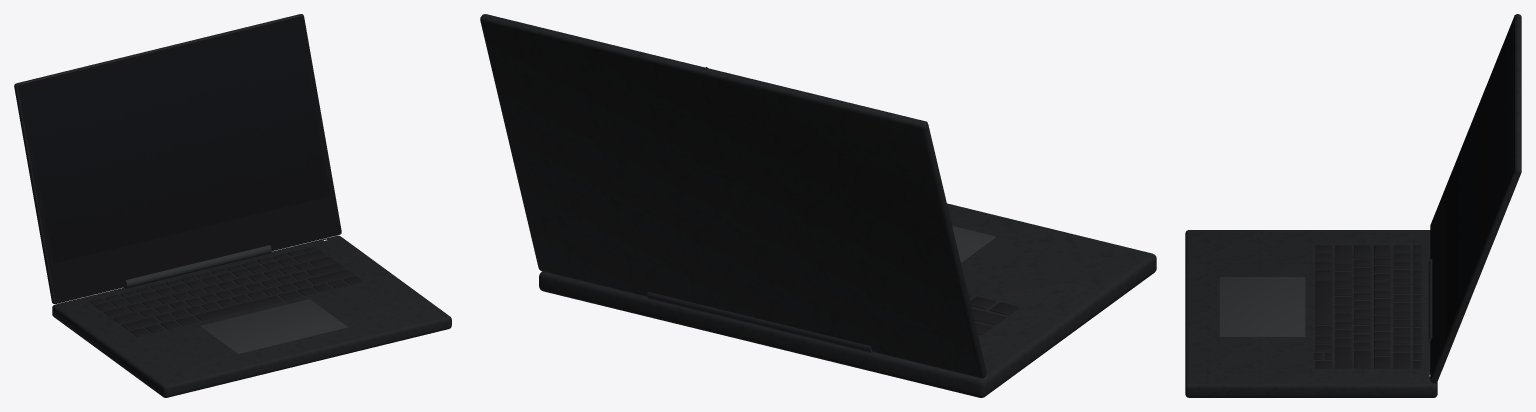
The model's file is crew-laptop.glb.
The picture shows the model from 3 angles, left to right: view 1: azimuth 30°, elevation 25°; view 2: azimuth 150°, elevation 25°; view 3: azimuth 270°, elevation 25°; orthographic projection. The views are drawn at different scales.
Visible parts, largest first — view 1: Screen, Base, Display bezel, Keyboard keys, Trackpad, Lid, Hinge; view 2: Lid, Base, Hinge, Keyboard keys, Trackpad; view 3: Base, Keyboard keys, Screen, Trackpad, Display bezel, Lid, Hinge.
Boxes of the visible parts, <box> form: Screen: <box>22,20,330,263</box>; Base: <box>52,235,451,397</box>; Display bezel: <box>17,16,341,302</box>; Keyboard keys: <box>90,246,362,336</box>; Trackpad: <box>200,299,347,353</box>; Lid: <box>14,14,341,303</box>; Hinge: <box>124,245,271,288</box>; Lid: <box>480,14,986,378</box>; Base: <box>539,203,1156,397</box>; Hinge: <box>647,292,873,353</box>; Keyboard keys: <box>968,294,1019,337</box>; Trackpad: <box>952,226,996,262</box>; Base: <box>1185,230,1437,397</box>; Keyboard keys: <box>1314,245,1421,368</box>; Screen: <box>1445,21,1513,340</box>; Trackpad: <box>1219,277,1305,336</box>; Display bezel: <box>1430,15,1515,380</box>; Lid: <box>1430,14,1521,383</box>; Hinge: <box>1428,259,1432,344</box>.
Size of the model in its own units: 0.36 by 0.2462 by 0.3265.
9 materials, 9 textured.
